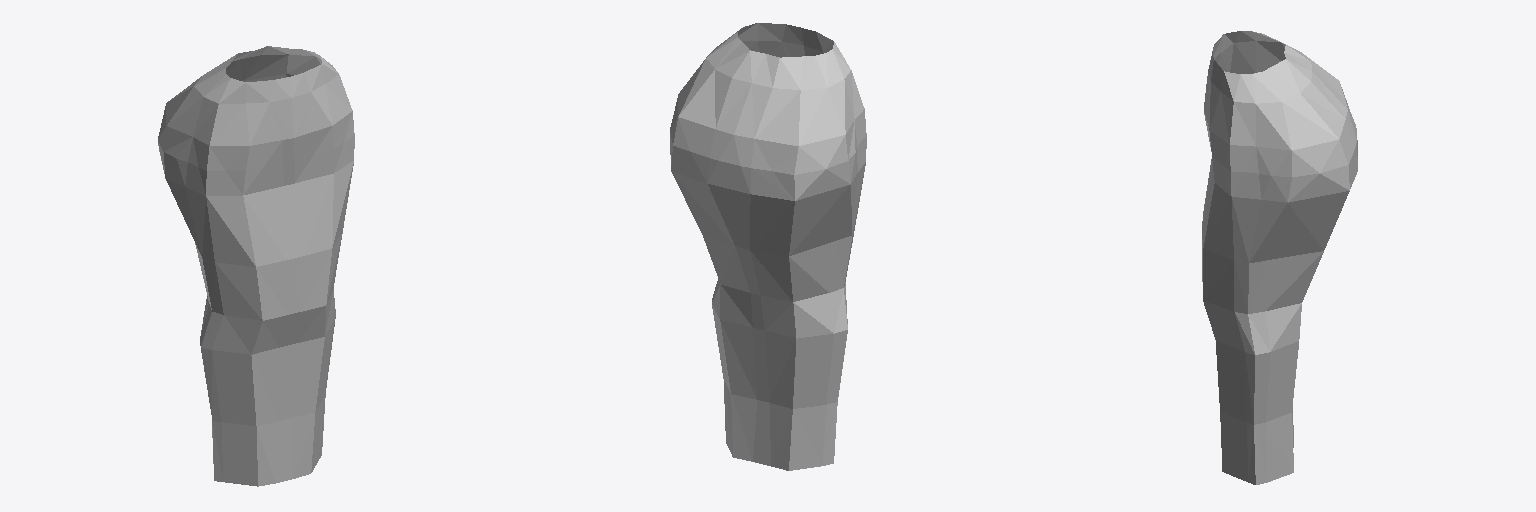
Rendered from avatar_skirt-skirt_bigbutt.obj.
3 renders of one model, left to right at view 1: azimuth 30°, elevation 25°; view 2: azimuth 150°, elevation 25°; view 3: azimuth 270°, elevation 25°, orthographic.
Visible parts, largest first — view 1: g1_avatar_skirt; view 2: g1_avatar_skirt; view 3: g1_avatar_skirt.
Boxes of the visible parts, x1=… form: g1_avatar_skirt: x1=158, y1=46, x2=354, y2=486; g1_avatar_skirt: x1=670, y1=23, x2=866, y2=470; g1_avatar_skirt: x1=1202, y1=31, x2=1357, y2=484.
Bounding box in the file's own units: 0.4988 × 1.12 × 0.3891.